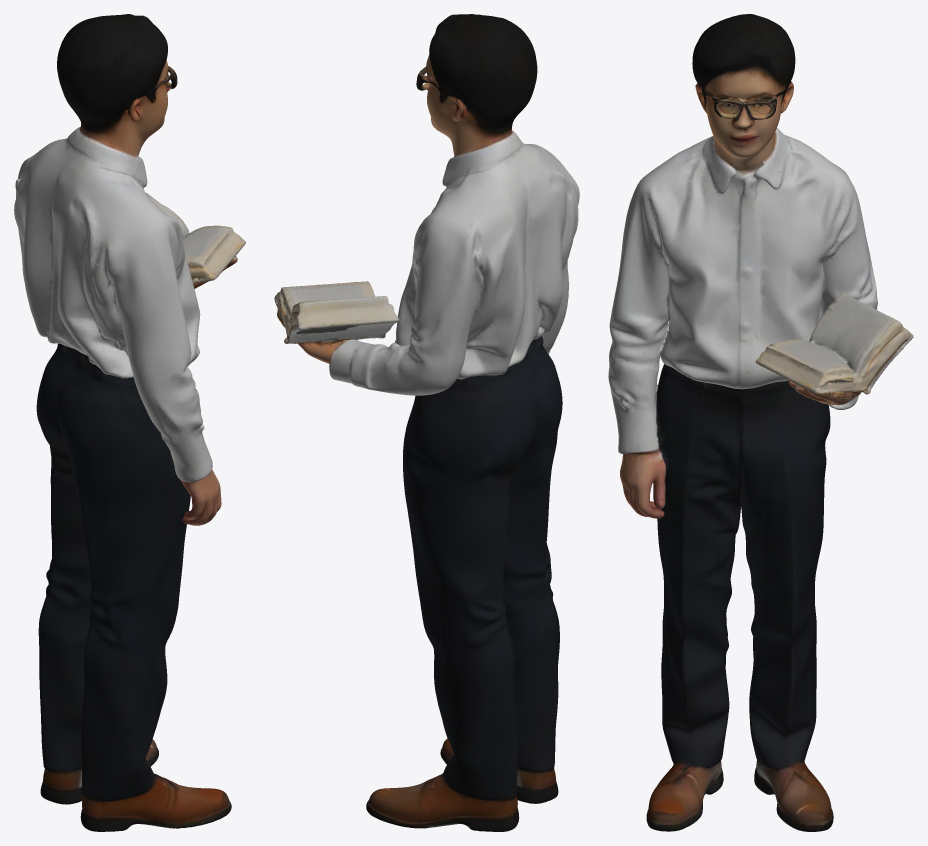
Rendered from maoxuan-scholar.glb.
The picture shows the model from 3 angles, left to right: view 1: azimuth 30°, elevation 25°; view 2: azimuth 150°, elevation 25°; view 3: azimuth 270°, elevation 25°; orthographic projection.
Parts seen in each view (by area): view 1: tripo_node_0aaf5210-e0ba-4f39-97c9-5f22732efd2b; view 2: tripo_node_0aaf5210-e0ba-4f39-97c9-5f22732efd2b; view 3: tripo_node_0aaf5210-e0ba-4f39-97c9-5f22732efd2b.
Boxes of the visible parts, x1,y1,x2,y2 form: tripo_node_0aaf5210-e0ba-4f39-97c9-5f22732efd2b: (14,14,245,831); tripo_node_0aaf5210-e0ba-4f39-97c9-5f22732efd2b: (274,14,579,831); tripo_node_0aaf5210-e0ba-4f39-97c9-5f22732efd2b: (608,14,913,831).
Size of the model in its own units: 0.3146 by 1 by 0.3554.
Materials: 1 (1 with a texture image).
